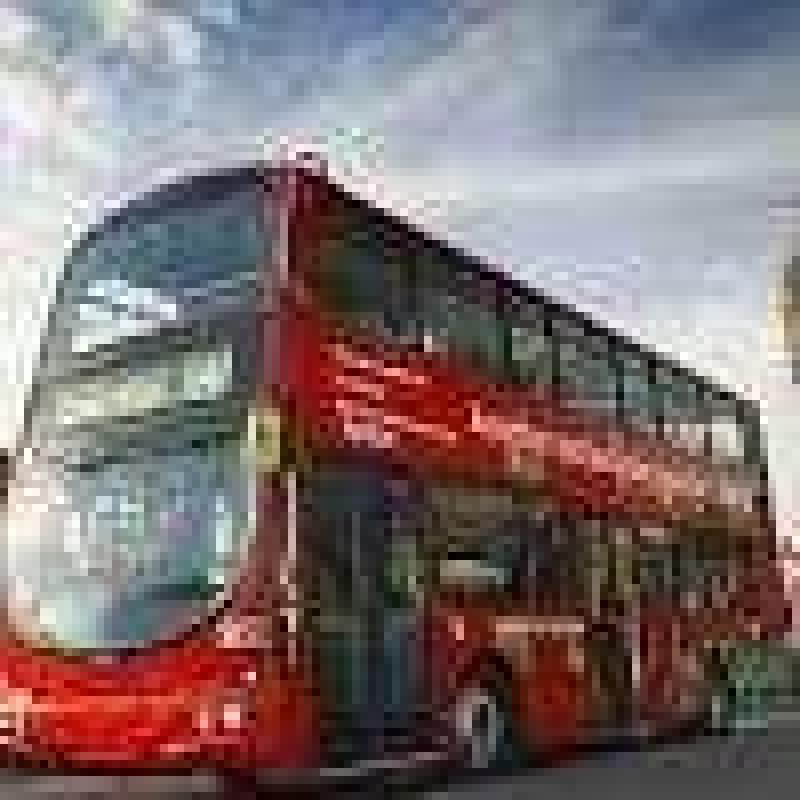bus: (8, 144, 800, 792)
